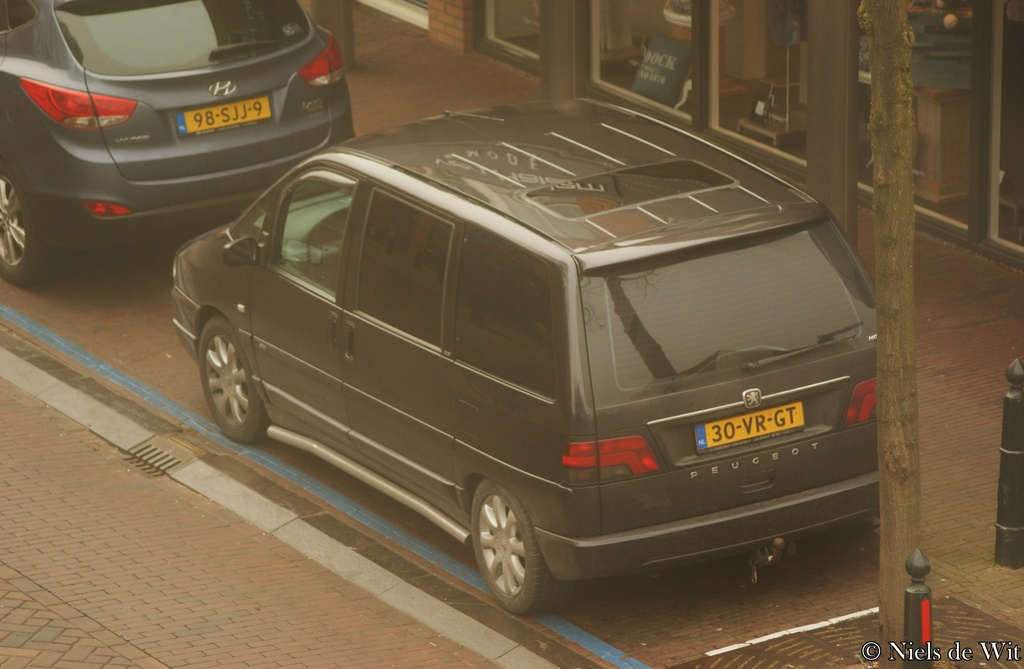license plate: (690, 427, 803, 455), (179, 108, 265, 131)
